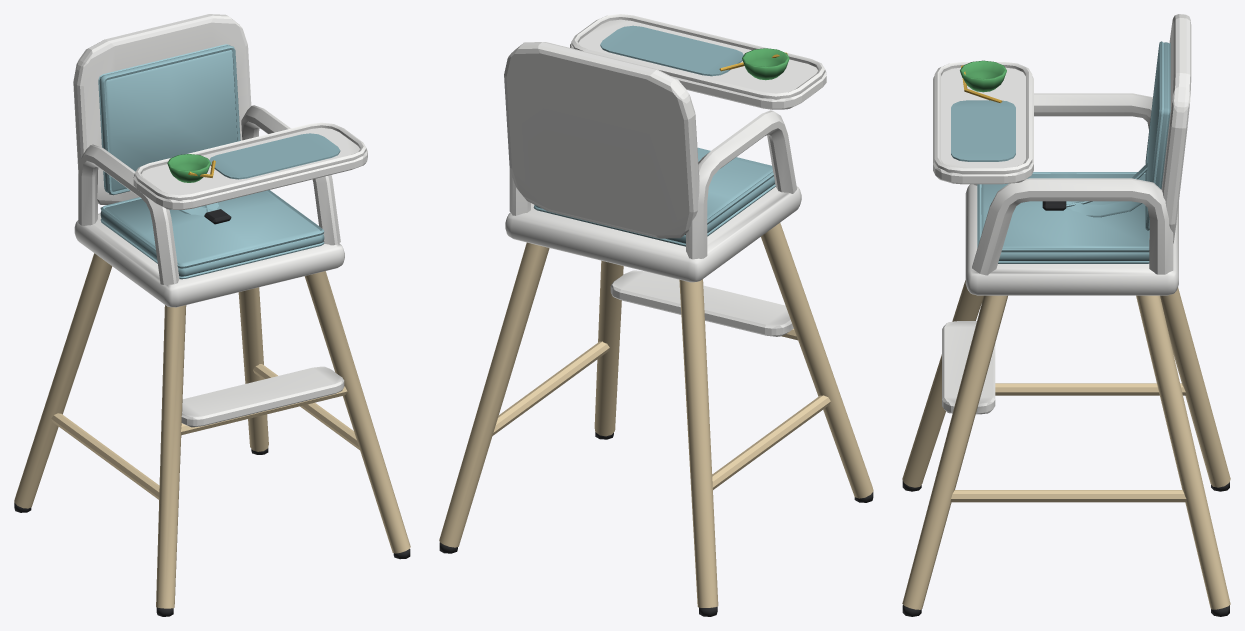
The model's file is highChair.glb.
3 renders of one model, left to right at view 1: azimuth 30°, elevation 25°; view 2: azimuth 150°, elevation 25°; view 3: azimuth 270°, elevation 25°, orthographic. The views are drawn at different scales.
Visible parts, largest first — view 1: body, tray; view 2: body, tray; view 3: body, tray.
Part boxes in pixels (<box>): body: <box>14,14,410,616</box>; tray: <box>133,122,367,209</box>; body: <box>439,42,873,616</box>; tray: <box>570,14,826,109</box>; body: <box>902,14,1230,616</box>; tray: <box>933,60,1033,184</box>.
Size of the model in its own units: 0.5322 by 0.9397 by 0.5539.
